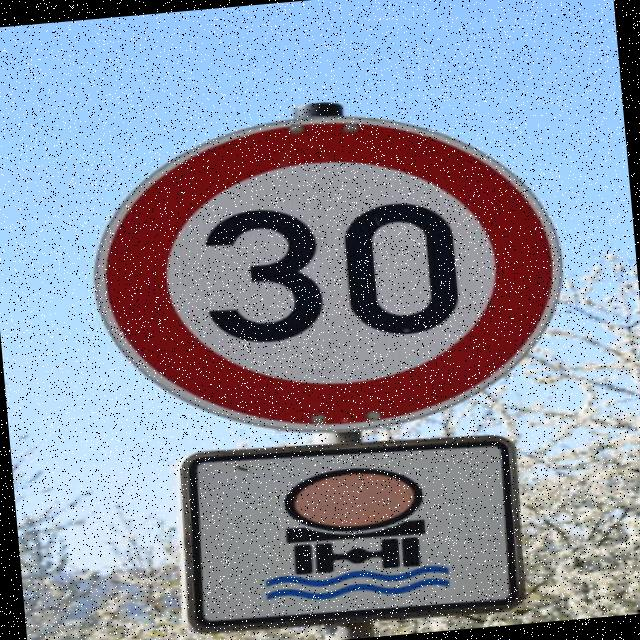speed_limit_30: (49, 78, 616, 451)
